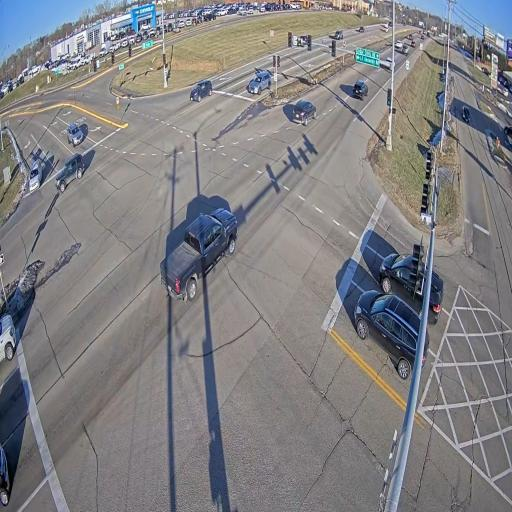pickup: (161, 209, 237, 300)
sedan: (462, 106, 470, 123), (358, 26, 365, 32), (382, 25, 388, 31), (411, 40, 416, 47)
suv: (354, 290, 421, 380), (55, 153, 86, 192), (0, 314, 17, 361), (292, 100, 317, 126), (247, 70, 272, 95), (190, 80, 212, 101), (67, 123, 83, 147), (352, 80, 368, 101), (334, 30, 343, 39), (401, 45, 409, 55), (395, 40, 403, 48), (408, 34, 413, 39)
van: (378, 244, 425, 315), (429, 271, 443, 324), (29, 159, 43, 192)
